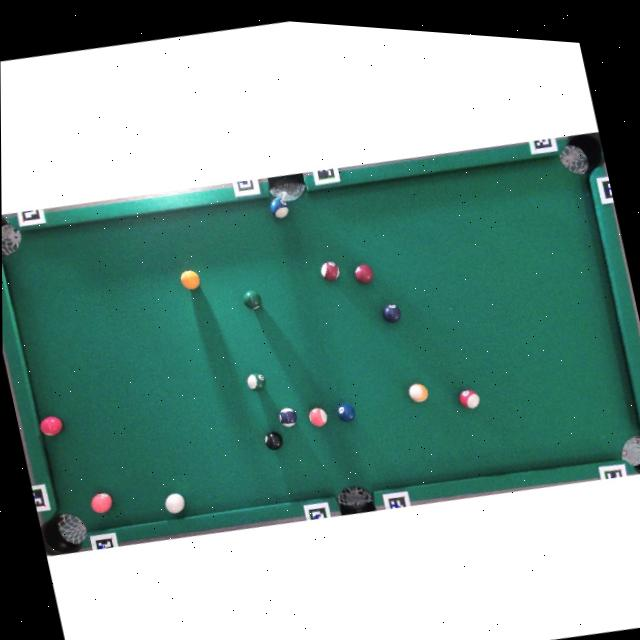cue ball: (162, 490, 187, 516)
other: (39, 413, 65, 439), (457, 385, 482, 412), (89, 489, 114, 515), (318, 258, 341, 284), (352, 260, 375, 285), (178, 267, 201, 292), (276, 405, 299, 429), (268, 195, 290, 220), (381, 301, 403, 325), (306, 404, 328, 428), (407, 380, 429, 404), (335, 400, 356, 424), (263, 428, 284, 452), (245, 371, 267, 393), (242, 288, 263, 311)
